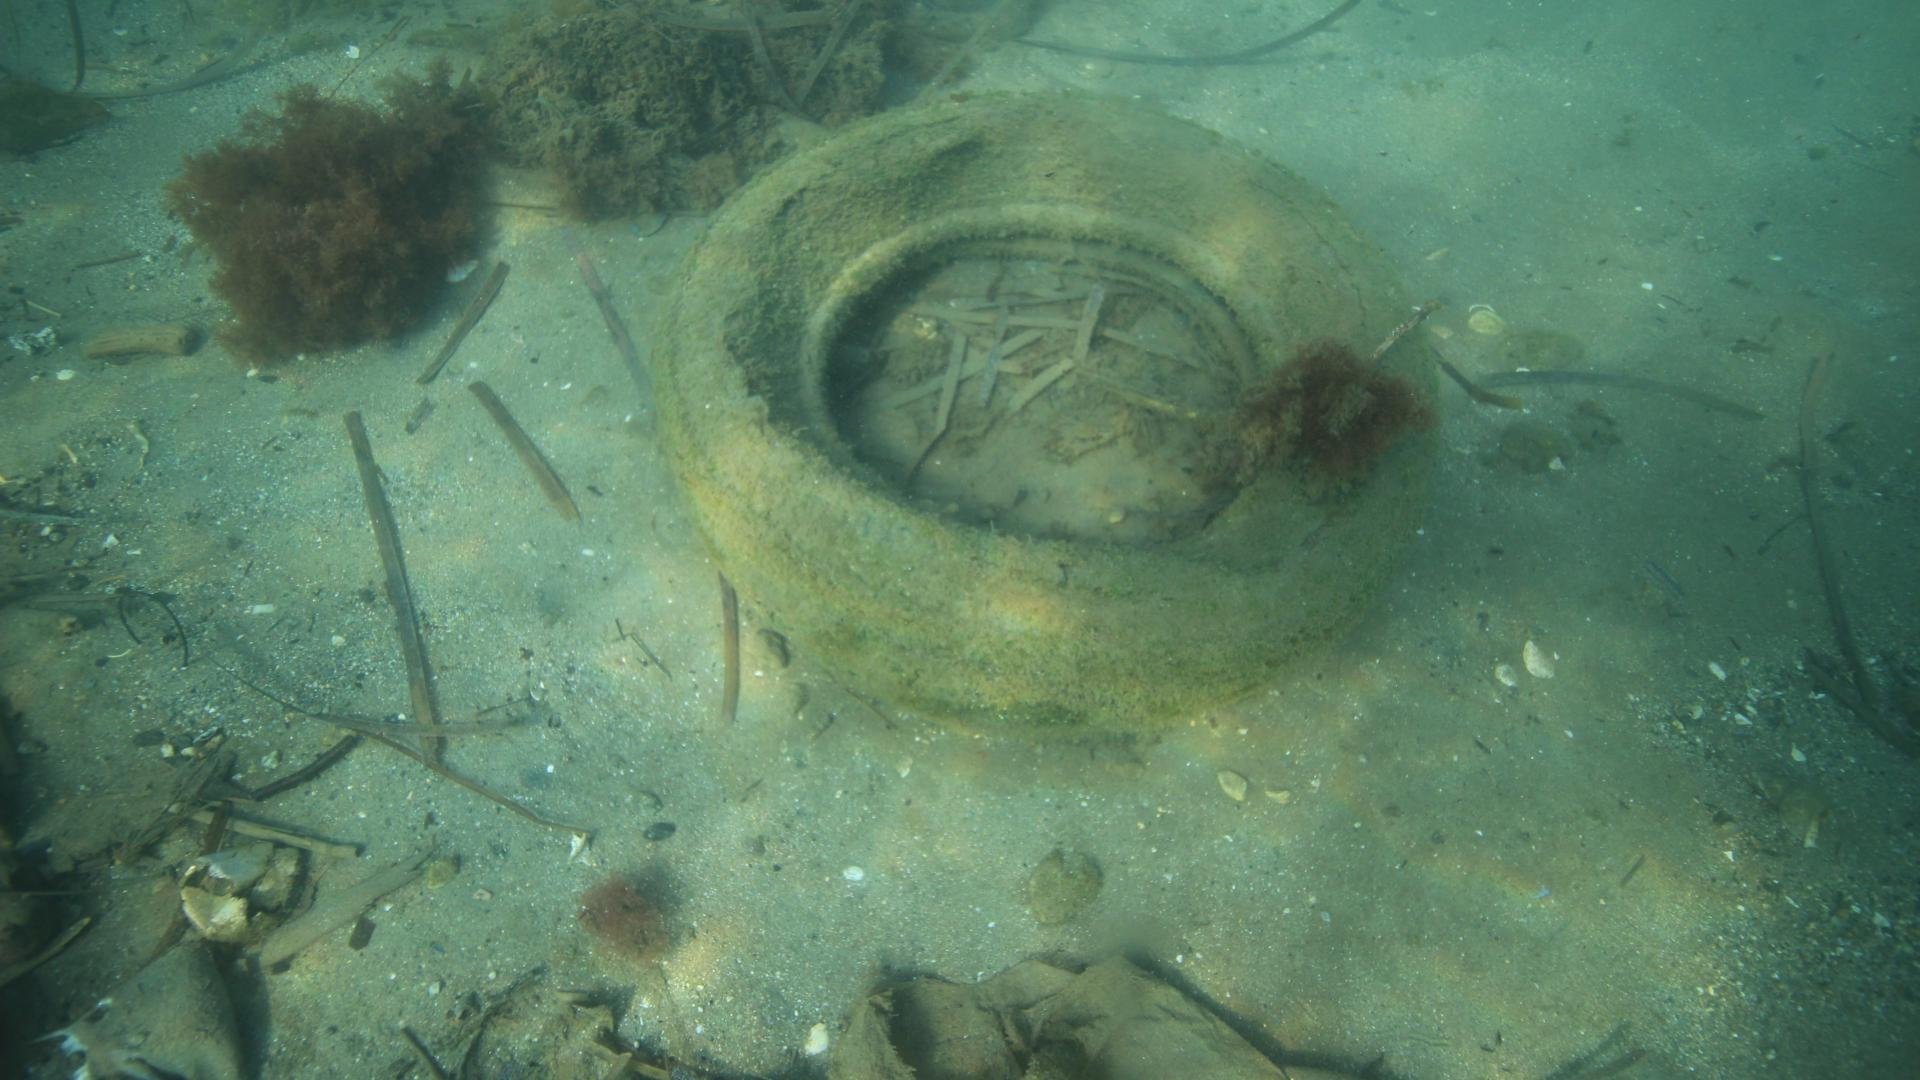tire: (650, 86, 1440, 742)
